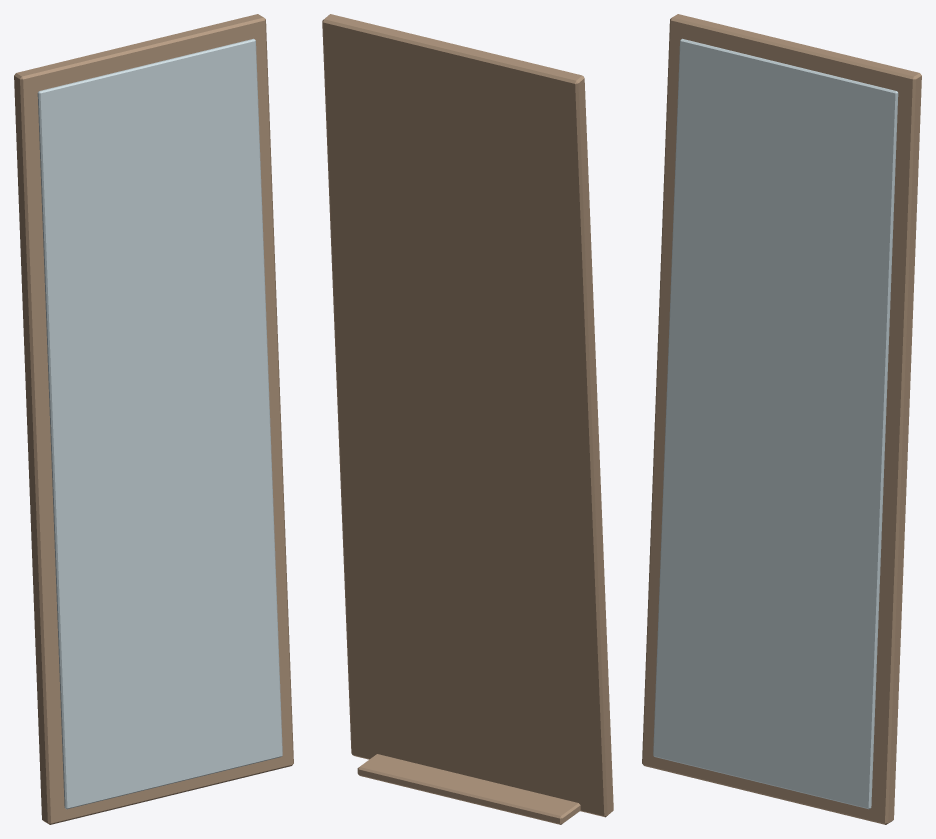
Rendered from hotel-and-resort-operations-full-length-mirror-8269ef2e__25778.glb.
3 views of the same model, side by side, from view 1: azimuth 30°, elevation 25°; view 2: azimuth 150°, elevation 25°; view 3: azimuth 330°, elevation 25° (orthographic). The views are drawn at different scales.
Parts seen in each view (by area): view 1: full-length-mirror; view 2: full-length-mirror; view 3: full-length-mirror.
Boxes of the visible parts, bbox=[...] form: full-length-mirror: bbox=[14, 14, 293, 824]; full-length-mirror: bbox=[322, 14, 613, 824]; full-length-mirror: bbox=[642, 14, 921, 824].
Bounding box in the file's own units: 0.6 × 1.7 × 0.1648.
